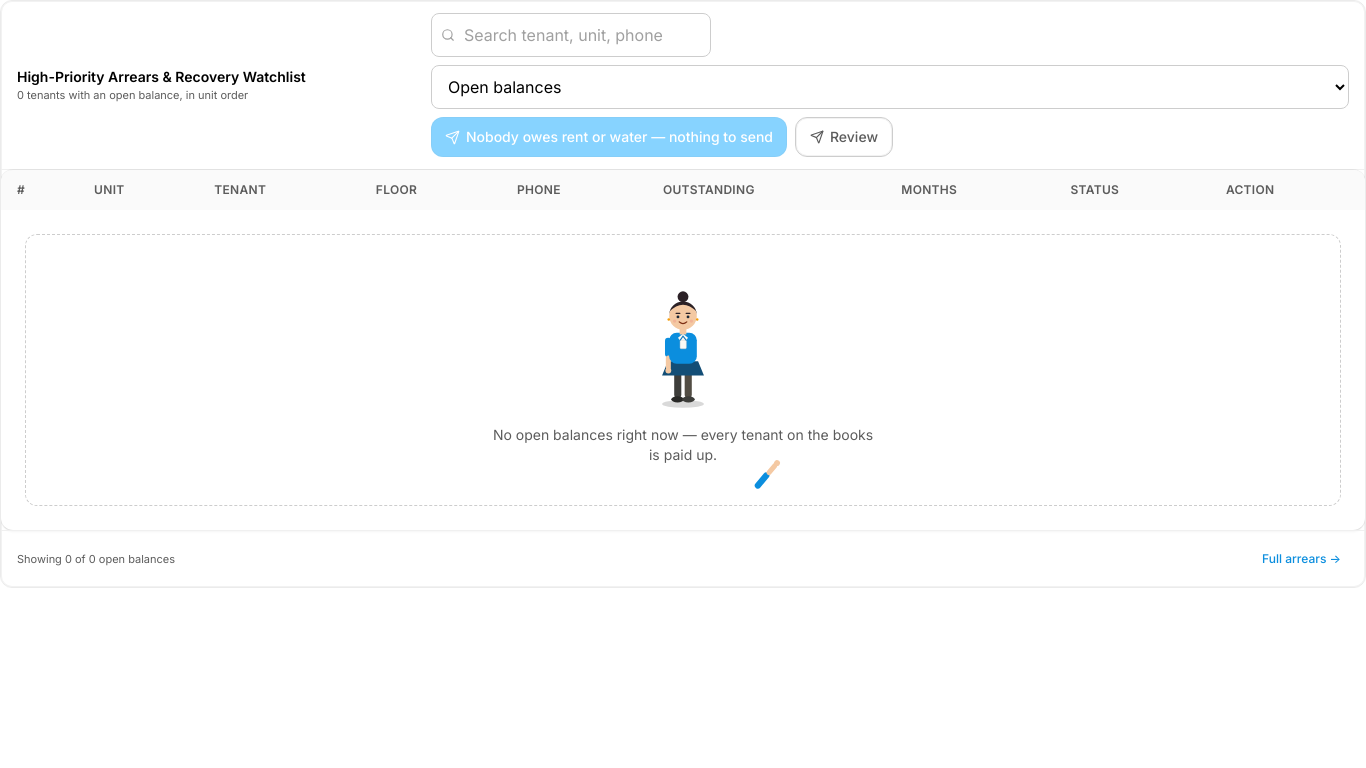
it: ExecWatchlist (empty states) › points at the status filter when that filter is what emptied the table
Step 1. Select "Overdue" in the dropdown named "Filter by status" → {"x": 890, "y": 87}, box [431,65,1349,109]
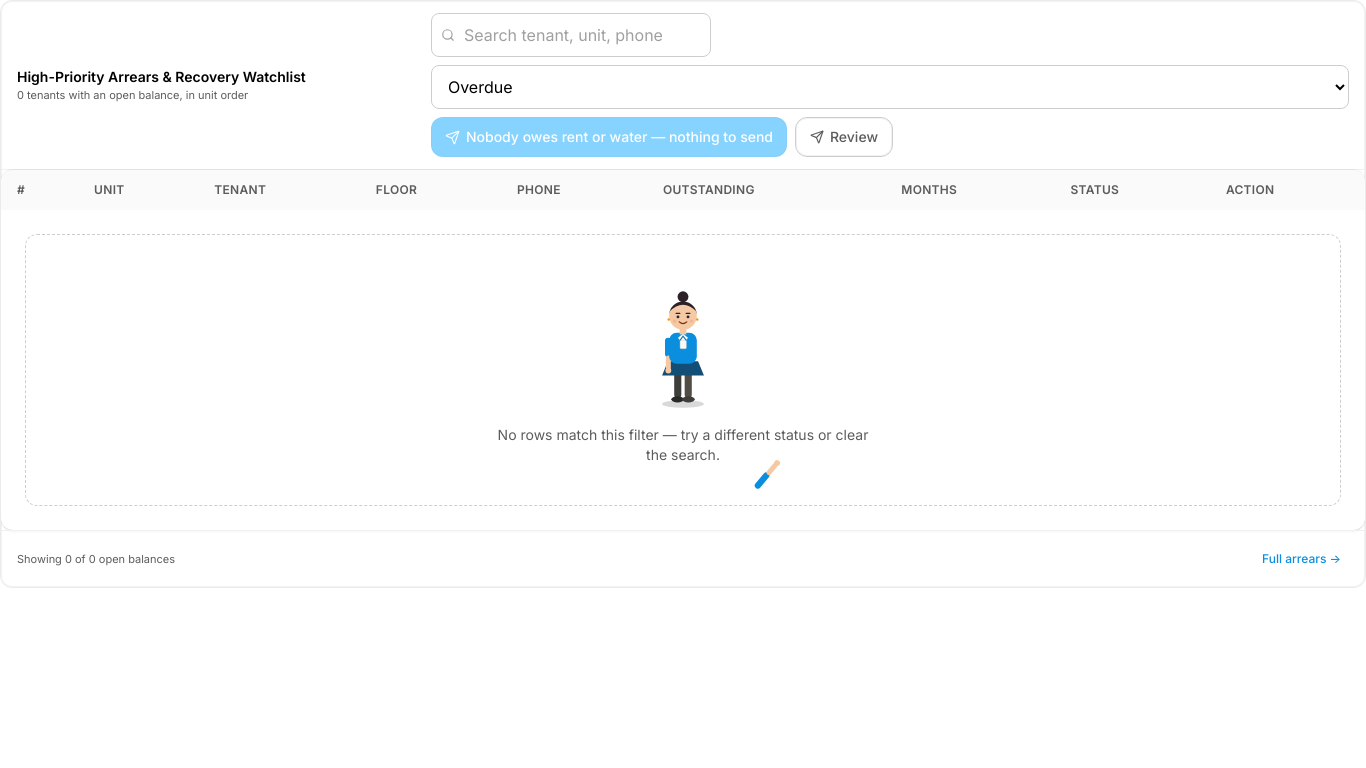
Now the text "No rows match this filter — try a different status or clear the search." is shown, box [491,425,875,465]
